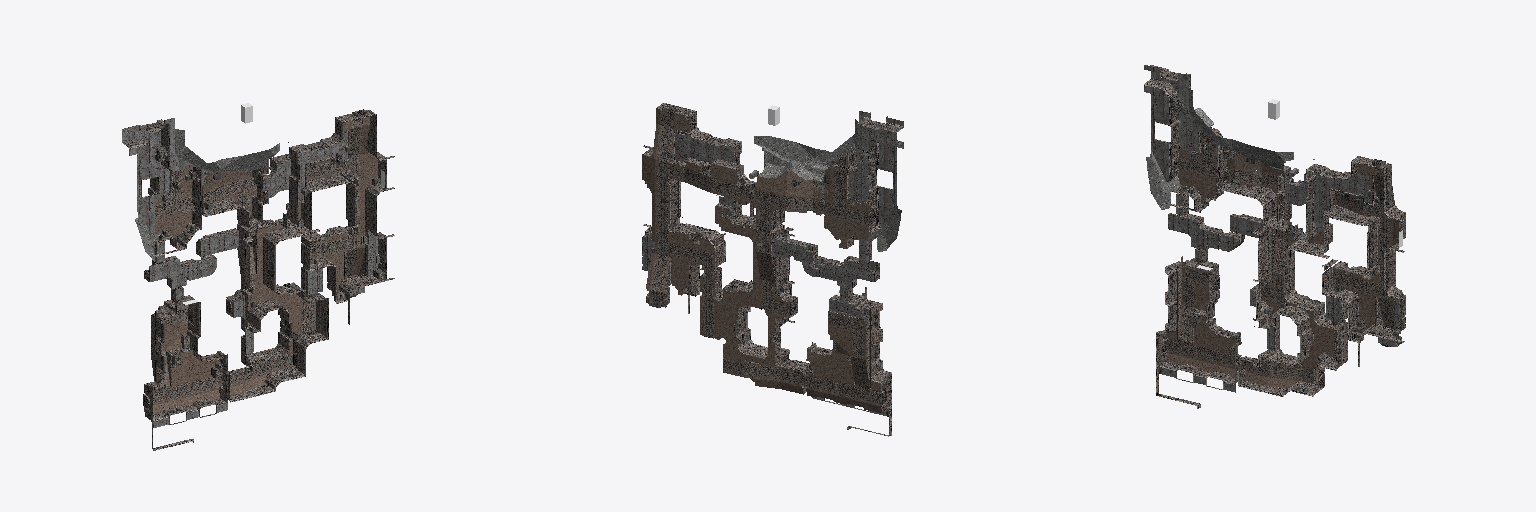
The picture shows the model from 3 angles: view 1: azimuth 30°, elevation 25°; view 2: azimuth 150°, elevation 25°; view 3: azimuth 330°, elevation 25°; orthographic projection.
Parts seen in each view (by area): view 1: de_dust2; view 2: de_dust2; view 3: de_dust2.
Part boxes in pixels (bbox=[...]): de_dust2: bbox=[122, 103, 394, 450]; de_dust2: bbox=[642, 103, 903, 436]; de_dust2: bbox=[1144, 65, 1405, 408].
Size of the model in its own units: 4480 by 5312 by 608.
Materials: 34 (27 with a texture image).